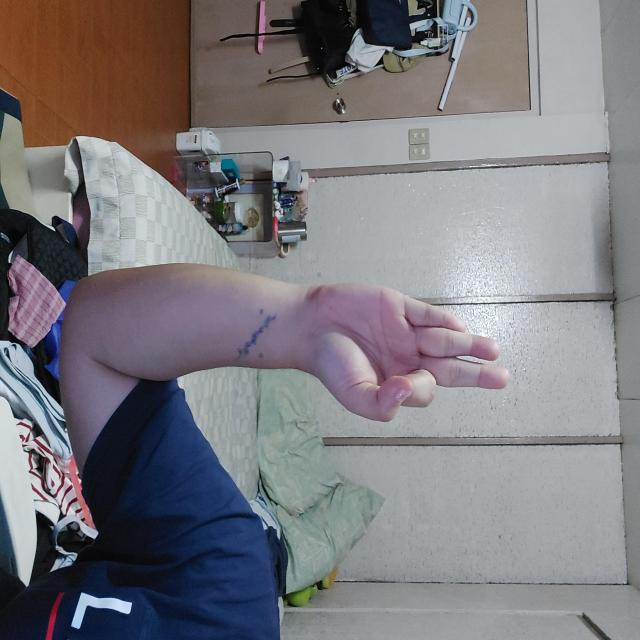F: (284, 130, 422, 332)
